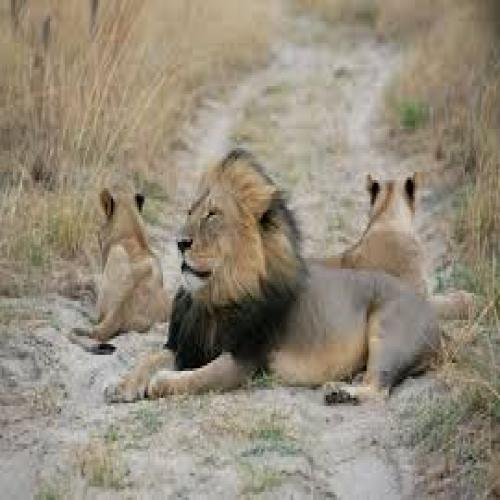lion-endangered: (103, 153, 444, 412), (306, 170, 473, 327), (67, 187, 174, 360)
